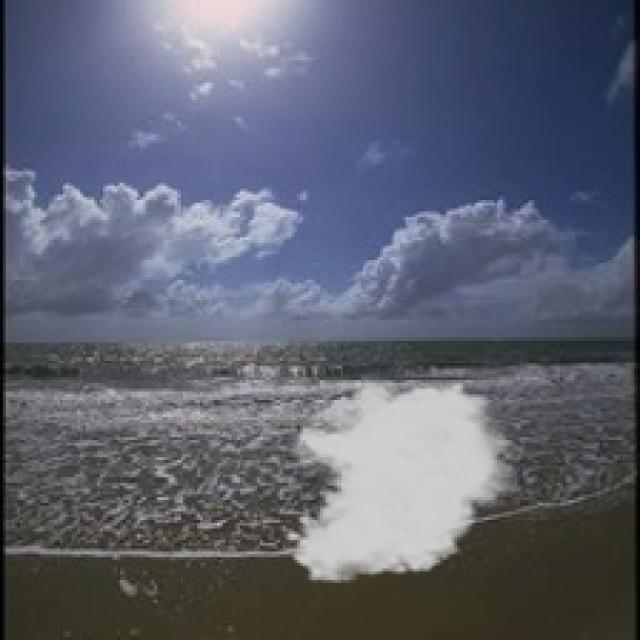smoke: (283, 368, 523, 586)
